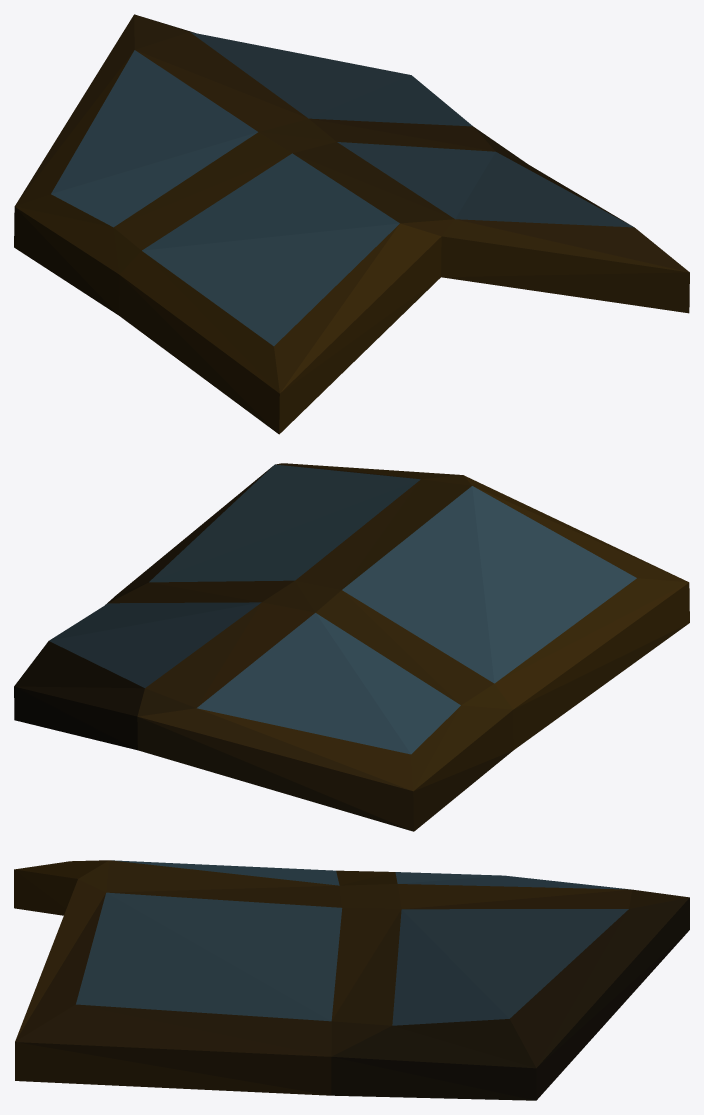
File: runite-kiteshield.obj
3 views of the same model, one above another, from view 1: azimuth 30°, elevation 25°; view 2: azimuth 150°, elevation 25°; view 3: azimuth 270°, elevation 25° (orthographic). The views are drawn at different scales.
Parts seen in each view (by area): view 1: Item Rune kiteshield 2026-09-24_18-19-46; view 2: Item Rune kiteshield 2026-09-24_18-19-46; view 3: Item Rune kiteshield 2026-09-24_18-19-46.
Part boxes in pixels (box(x1,y1,x2,y2)): Item Rune kiteshield 2026-09-24_18-19-46: box(14, 14, 689, 434); Item Rune kiteshield 2026-09-24_18-19-46: box(14, 463, 689, 831); Item Rune kiteshield 2026-09-24_18-19-46: box(14, 860, 689, 1100).
Size of the model in its own units: 63.84 by 21.62 by 93.81.
